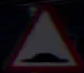Speed Breaker ahead: (4, 16, 71, 63)
